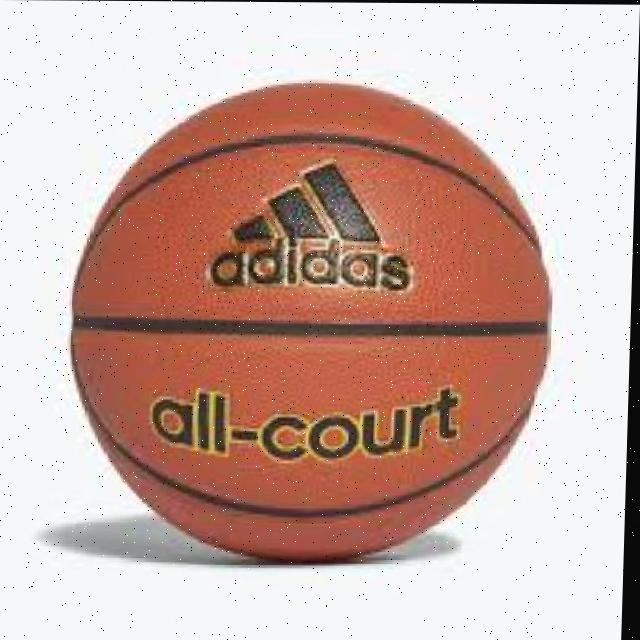Basketball: (67, 82, 557, 561)
